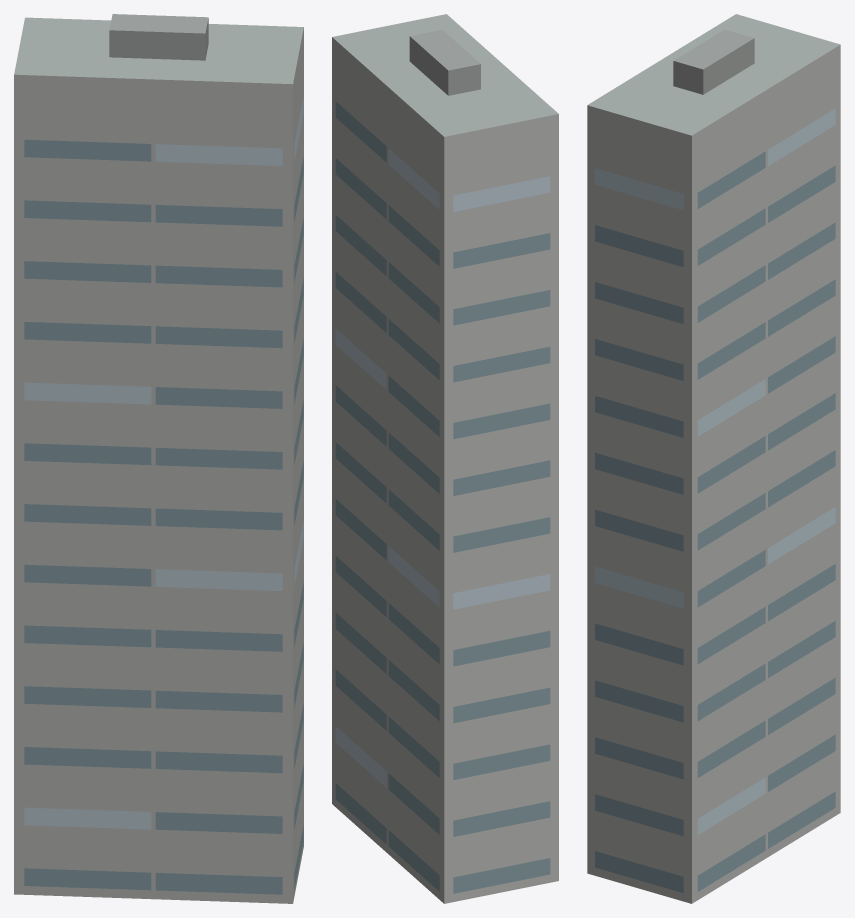
File: fallback-jamsil-parkrio-109.glb
The picture shows the model from 3 angles, left to right: view 1: azimuth 30°, elevation 25°; view 2: azimuth 150°, elevation 25°; view 3: azimuth 270°, elevation 25°; orthographic projection. The views are drawn at different scales.
Visible parts, largest first — view 1: fallback-jamsil-parkrio-109; view 2: fallback-jamsil-parkrio-109; view 3: fallback-jamsil-parkrio-109.
Boxes of the visible parts, x1=… form: fallback-jamsil-parkrio-109: x1=14, y1=14, x2=303, y2=903; fallback-jamsil-parkrio-109: x1=332, y1=14, x2=558, y2=903; fallback-jamsil-parkrio-109: x1=587, y1=14, x2=840, y2=903.
Bounding box in the file's own units: 24.67 × 75 × 21.72.
